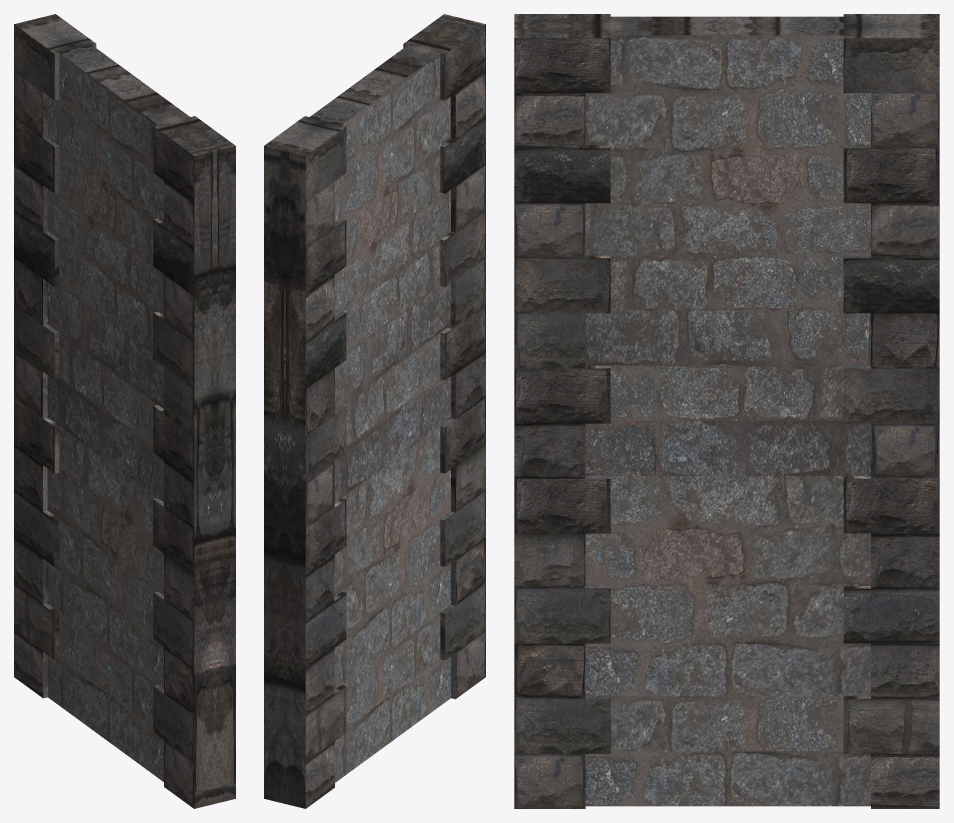
File: HalfWall.fbx
The picture shows the model from 3 angles, left to right: view 1: azimuth 30°, elevation 25°; view 2: azimuth 150°, elevation 25°; view 3: azimuth 270°, elevation 25°; orthographic projection. The views are drawn at different scales.
Parts seen in each view (by area): view 1: 2x1_Wall; view 2: 2x1_Wall; view 3: 2x1_Wall.
Part boxes in pixels (x1=…): 2x1_Wall: x1=14, y1=14, x2=235, y2=808; 2x1_Wall: x1=264, y1=14, x2=485, y2=808; 2x1_Wall: x1=514, y1=14, x2=939, y2=808.
Size of the model in its own units: 40.12 by 600 by 300.
